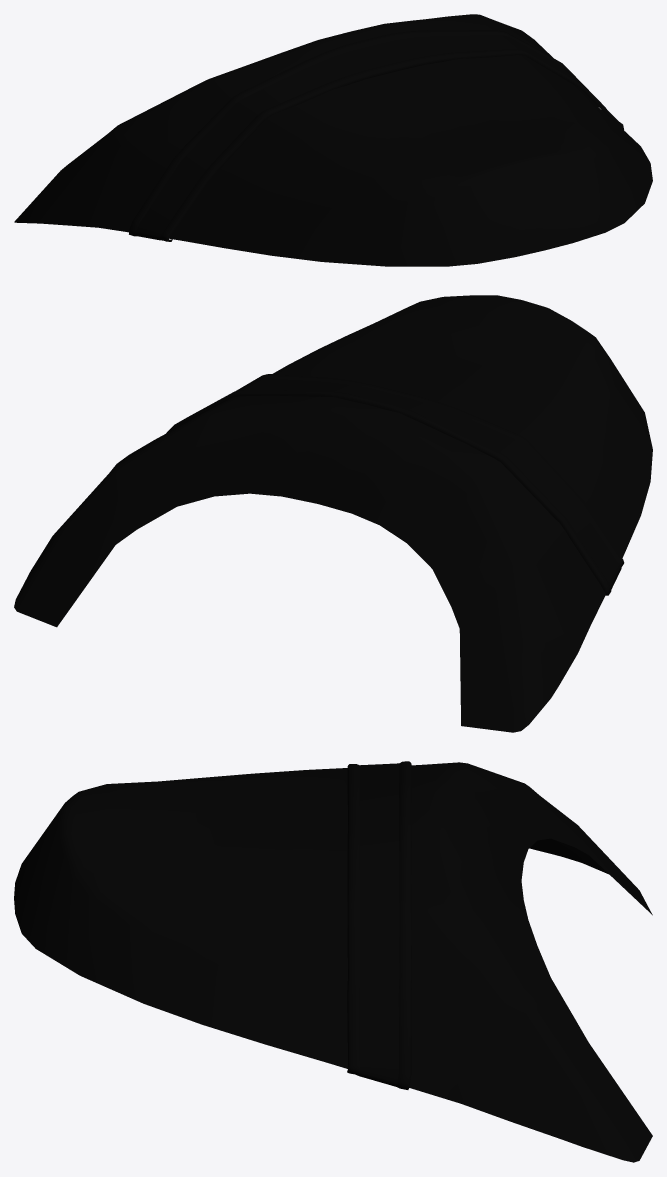
File: PassengerSeat_STOCK_2K.glb
3 views of the same model, one above another, from view 1: azimuth 30°, elevation 25°; view 2: azimuth 150°, elevation 25°; view 3: azimuth 270°, elevation 25° (orthographic). The views are drawn at different scales.
Visible parts, largest first — view 1: PassngerSeat_STOCK_2K, PassengerSeat_STRAP_2K; view 2: PassngerSeat_STOCK_2K, PassengerSeat_STRAP_2K; view 3: PassngerSeat_STOCK_2K, PassengerSeat_STRAP_2K.
Part boxes in pixels (left/top/right/bottom): PassngerSeat_STOCK_2K: left=14, top=14, right=652, bottom=266; PassengerSeat_STRAP_2K: left=129, top=30, right=623, bottom=241; PassngerSeat_STOCK_2K: left=14, top=295, right=652, bottom=732; PassengerSeat_STRAP_2K: left=166, top=374, right=624, bottom=595; PassngerSeat_STOCK_2K: left=14, top=762, right=652, bottom=1162; PassengerSeat_STRAP_2K: left=347, top=761, right=411, bottom=1089.
Size of the model in its own units: 0.3935 by 0.1416 by 0.3744.
2 materials, 2 textured.
